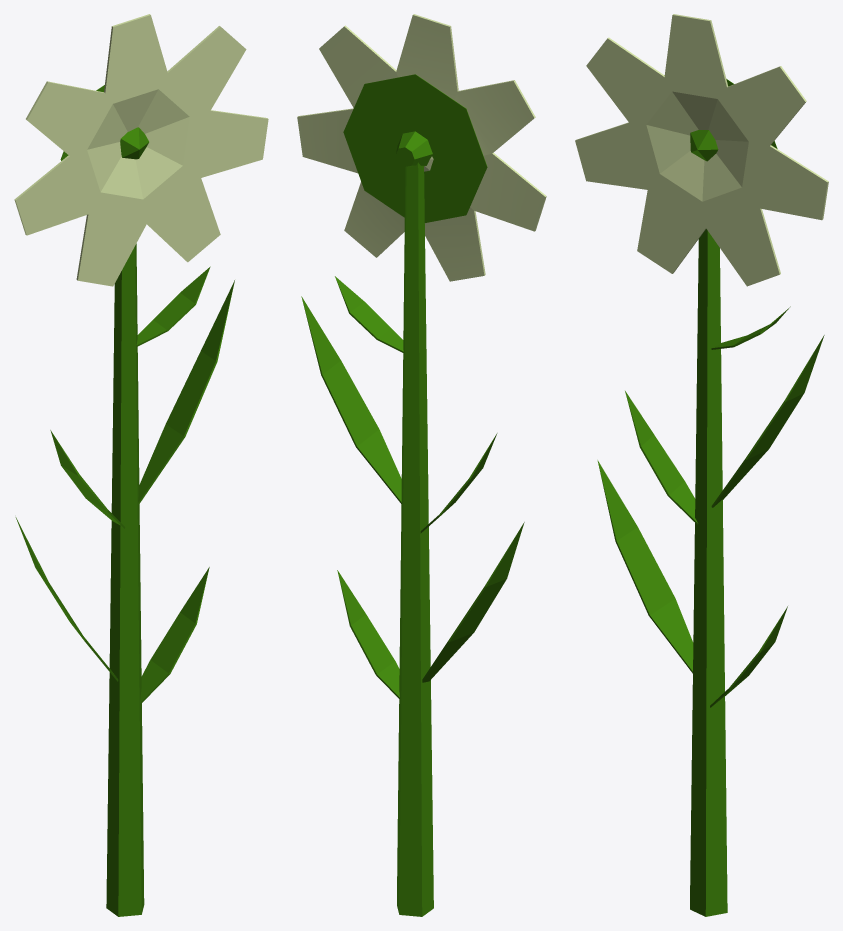
Rendered from Flower_a_01.fbx.
The picture shows the model from 3 angles, left to right: view 1: azimuth 30°, elevation 25°; view 2: azimuth 150°, elevation 25°; view 3: azimuth 330°, elevation 25°; orthographic projection.
Parts seen in each view (by area): view 1: Flower_a_01_LOD0; view 2: Flower_a_01_LOD0; view 3: Flower_a_01_LOD0.
Part boxes in pixels (left/top/right/bottom): Flower_a_01_LOD0: left=14, top=14, right=268, bottom=916; Flower_a_01_LOD0: left=297, top=14, right=546, bottom=916; Flower_a_01_LOD0: left=575, top=14, right=828, bottom=916.
Size of what is drawn, in the model's own units: 3 by 10.2 by 0.4809.
